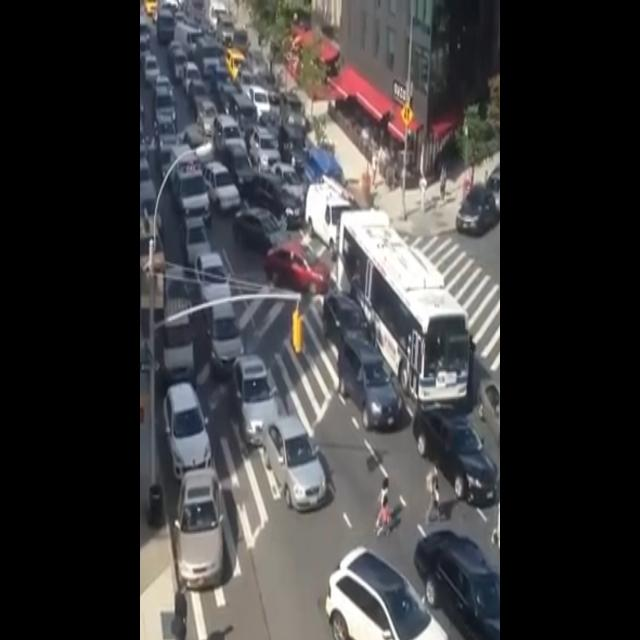Ambulance: (165, 138, 219, 231)
